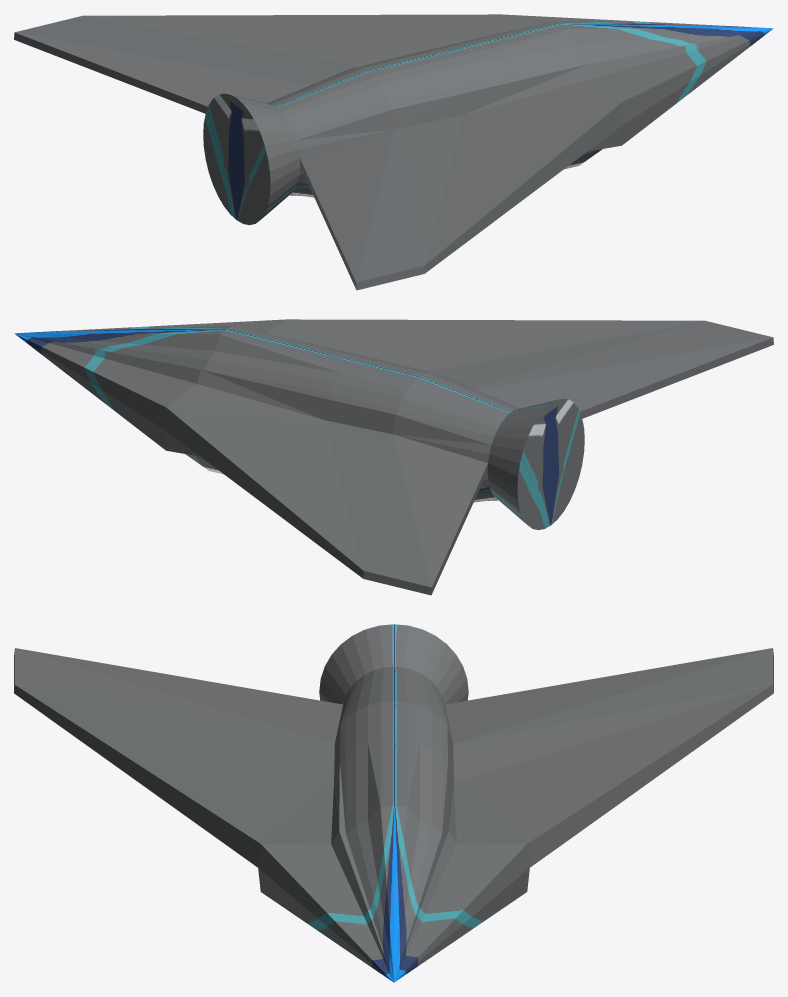
File: Player.obj
The picture shows the model from 3 angles, top to bottom: view 1: azimuth 30°, elevation 25°; view 2: azimuth 150°, elevation 25°; view 3: azimuth 270°, elevation 25°; orthographic projection. The views are drawn at different scales.
Visible parts, largest first — view 1: 円錐; view 2: 円錐; view 3: 円錐.
Boxes of the visible parts, box(x1,y1,x2,y2) form: 円錐: box(14, 14, 773, 290); 円錐: box(14, 319, 773, 595); 円錐: box(14, 624, 773, 982).
Size of the model in its own units: 5.55 by 1.17 by 5.59.
1 material, 1 textured.
